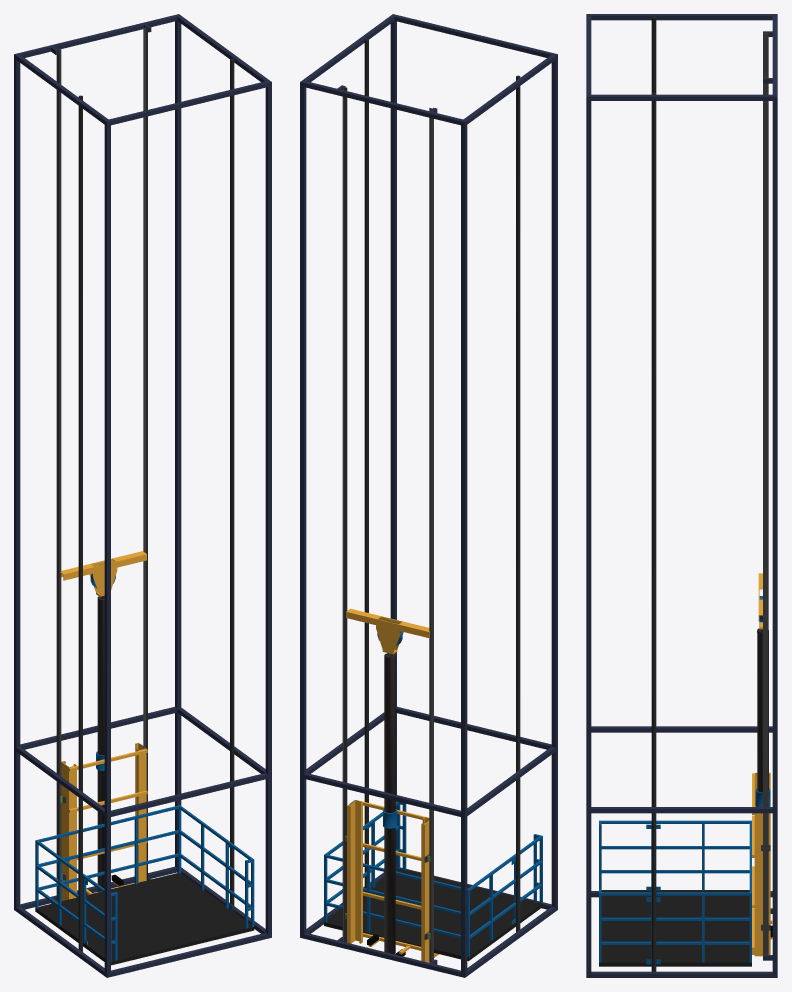
File: lift2 (1).fbx
The picture shows the model from 3 angles, left to right: view 1: azimuth 30°, elevation 25°; view 2: azimuth 150°, elevation 25°; view 3: azimuth 270°, elevation 25°; orthographic projection. The views are drawn at different scales.
Visible parts, largest first — view 1: LiftStatic, LiftDynamic; view 2: LiftStatic, LiftDynamic; view 3: LiftStatic, LiftDynamic.
Part boxes in pixels (x1=…): LiftStatic: x1=14, y1=14, x2=271, y2=977; LiftDynamic: x1=35, y1=551, x2=254, y2=965; LiftStatic: x1=300, y1=14, x2=557, y2=977; LiftDynamic: x1=324, y1=608, x2=542, y2=962; LiftStatic: x1=586, y1=14, x2=777, y2=977; LiftDynamic: x1=599, y1=573, x2=772, y2=966.
Bounding box in the file's own units: 12106 × 60104 × 11811.
1 material, 1 textured.
